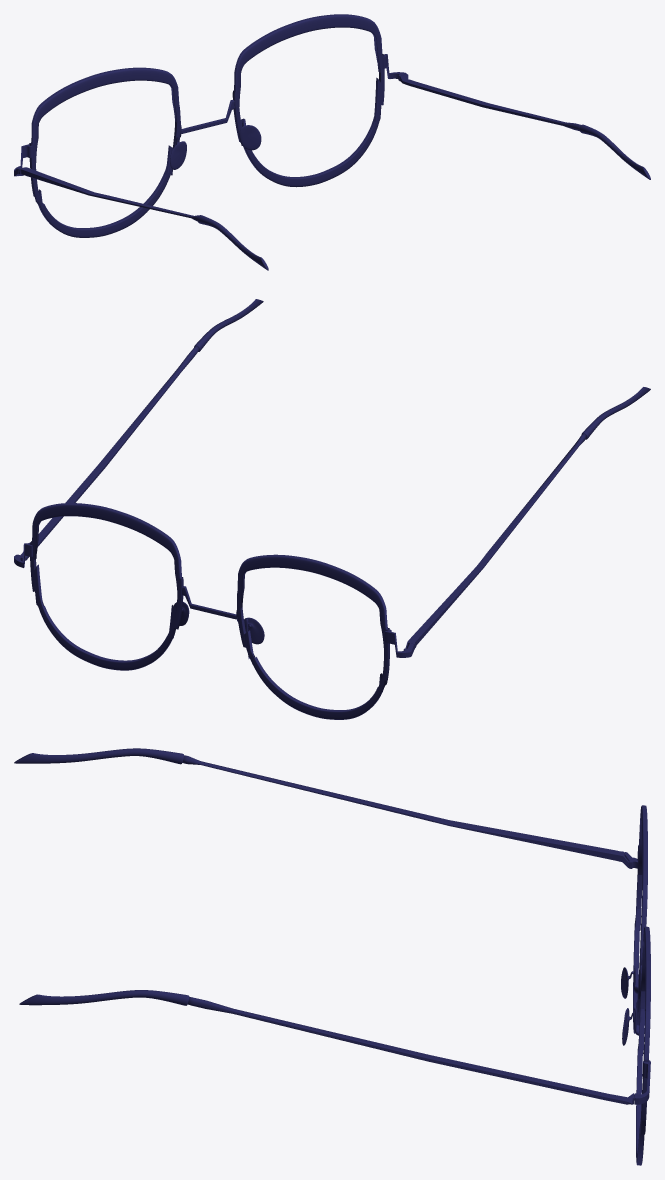
3 renders of one model, top to bottom at view 1: azimuth 30°, elevation 25°; view 2: azimuth 150°, elevation 25°; view 3: azimuth 270°, elevation 25°, orthographic. The views are drawn at different scales.
Visible parts, largest first — view 1: _Metal_Frame_Reading_Glasses_V2_Max2011_iterations_2:_Metal_; view 2: _Metal_Frame_Reading_Glasses_V2_Max2011_iterations_2:_Metal_; view 3: _Metal_Frame_Reading_Glasses_V2_Max2011_iterations_2:_Metal_.
Part boxes in pixels (<box>): _Metal_Frame_Reading_Glasses_V2_Max2011_iterations_2:_Metal_: <box>14,14,650,270</box>; _Metal_Frame_Reading_Glasses_V2_Max2011_iterations_2:_Metal_: <box>14,299,650,719</box>; _Metal_Frame_Reading_Glasses_V2_Max2011_iterations_2:_Metal_: <box>14,748,650,1165</box>.
Bounding box in the file's own units: 16 × 6.92 × 17.83.
